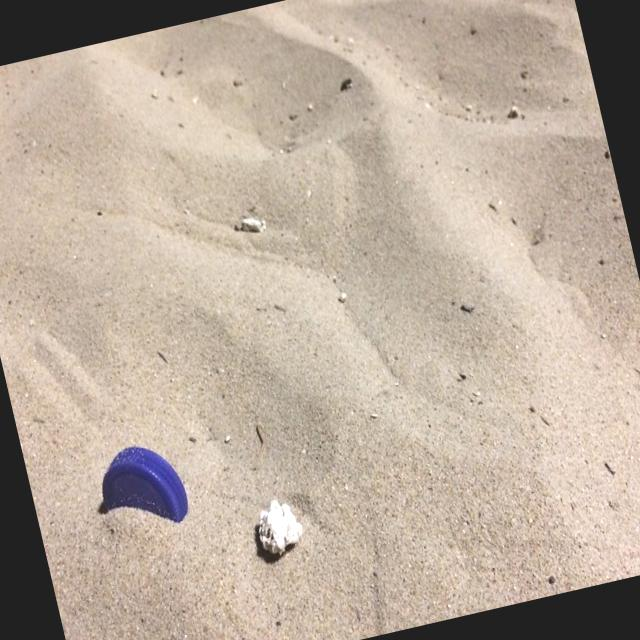Trash: (88, 434, 194, 542)
